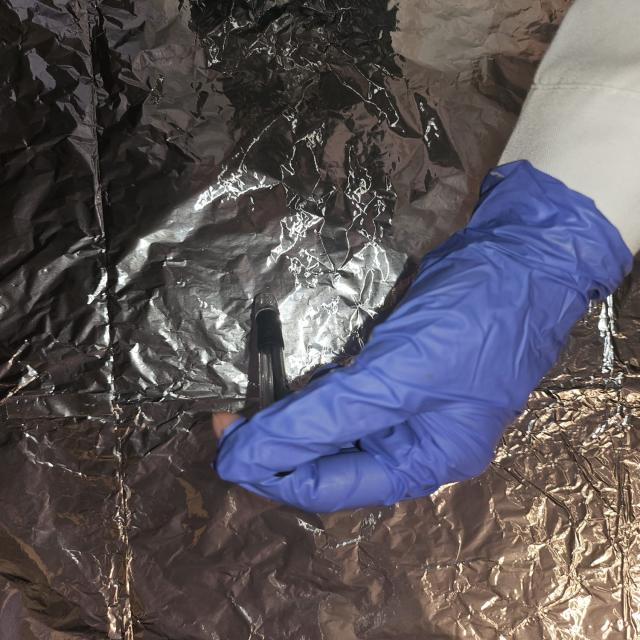gloves_damaged: (208, 160, 634, 513)
